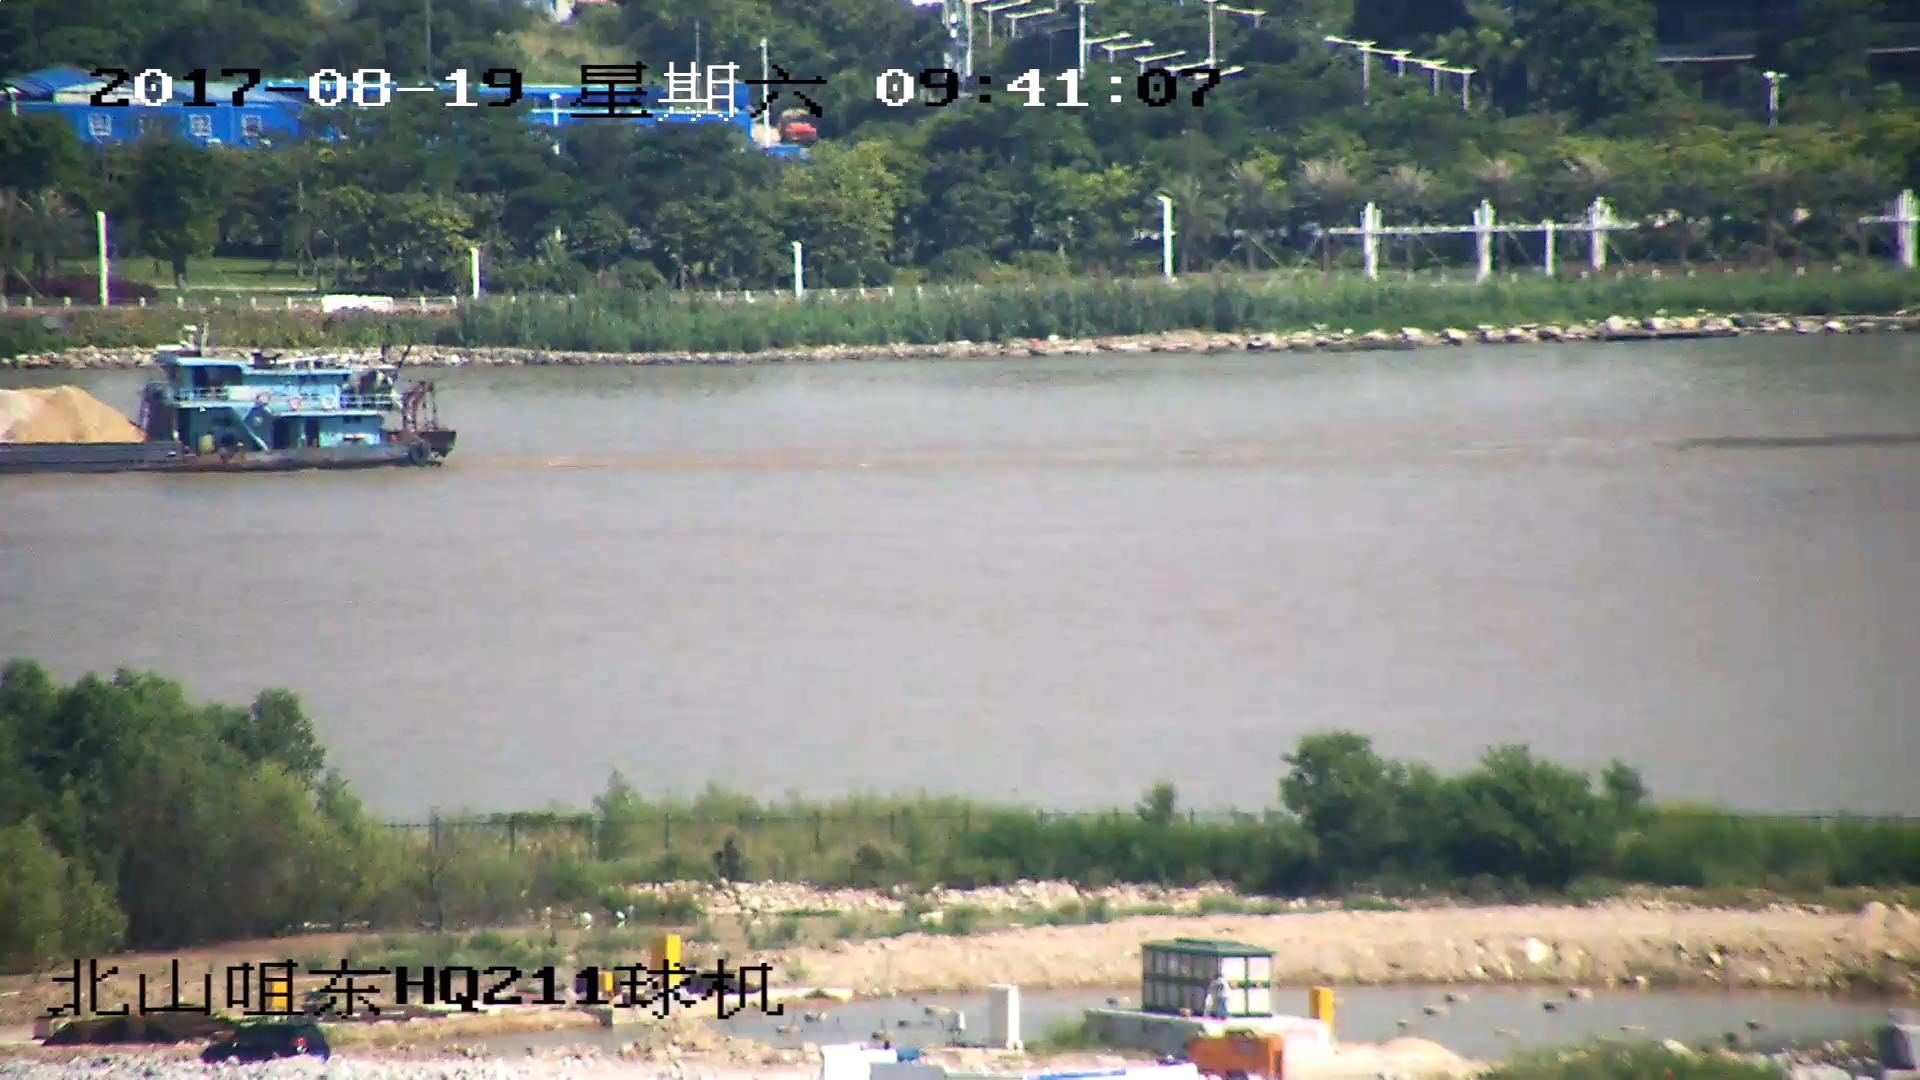ore carrier: (1, 316, 457, 470)
